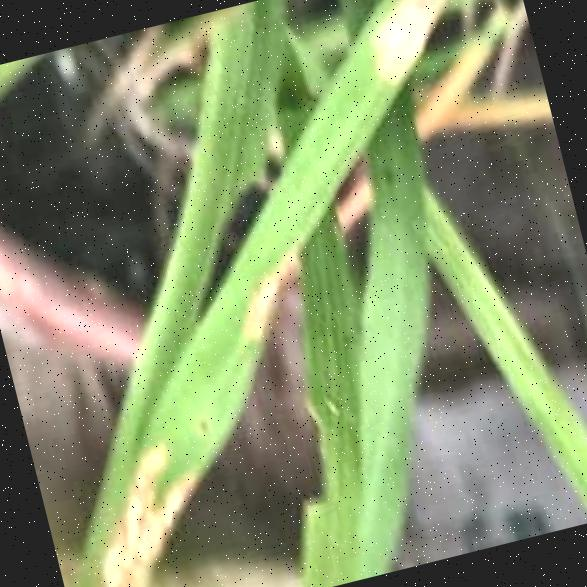Leaf_smut: (211, 227, 339, 371)
